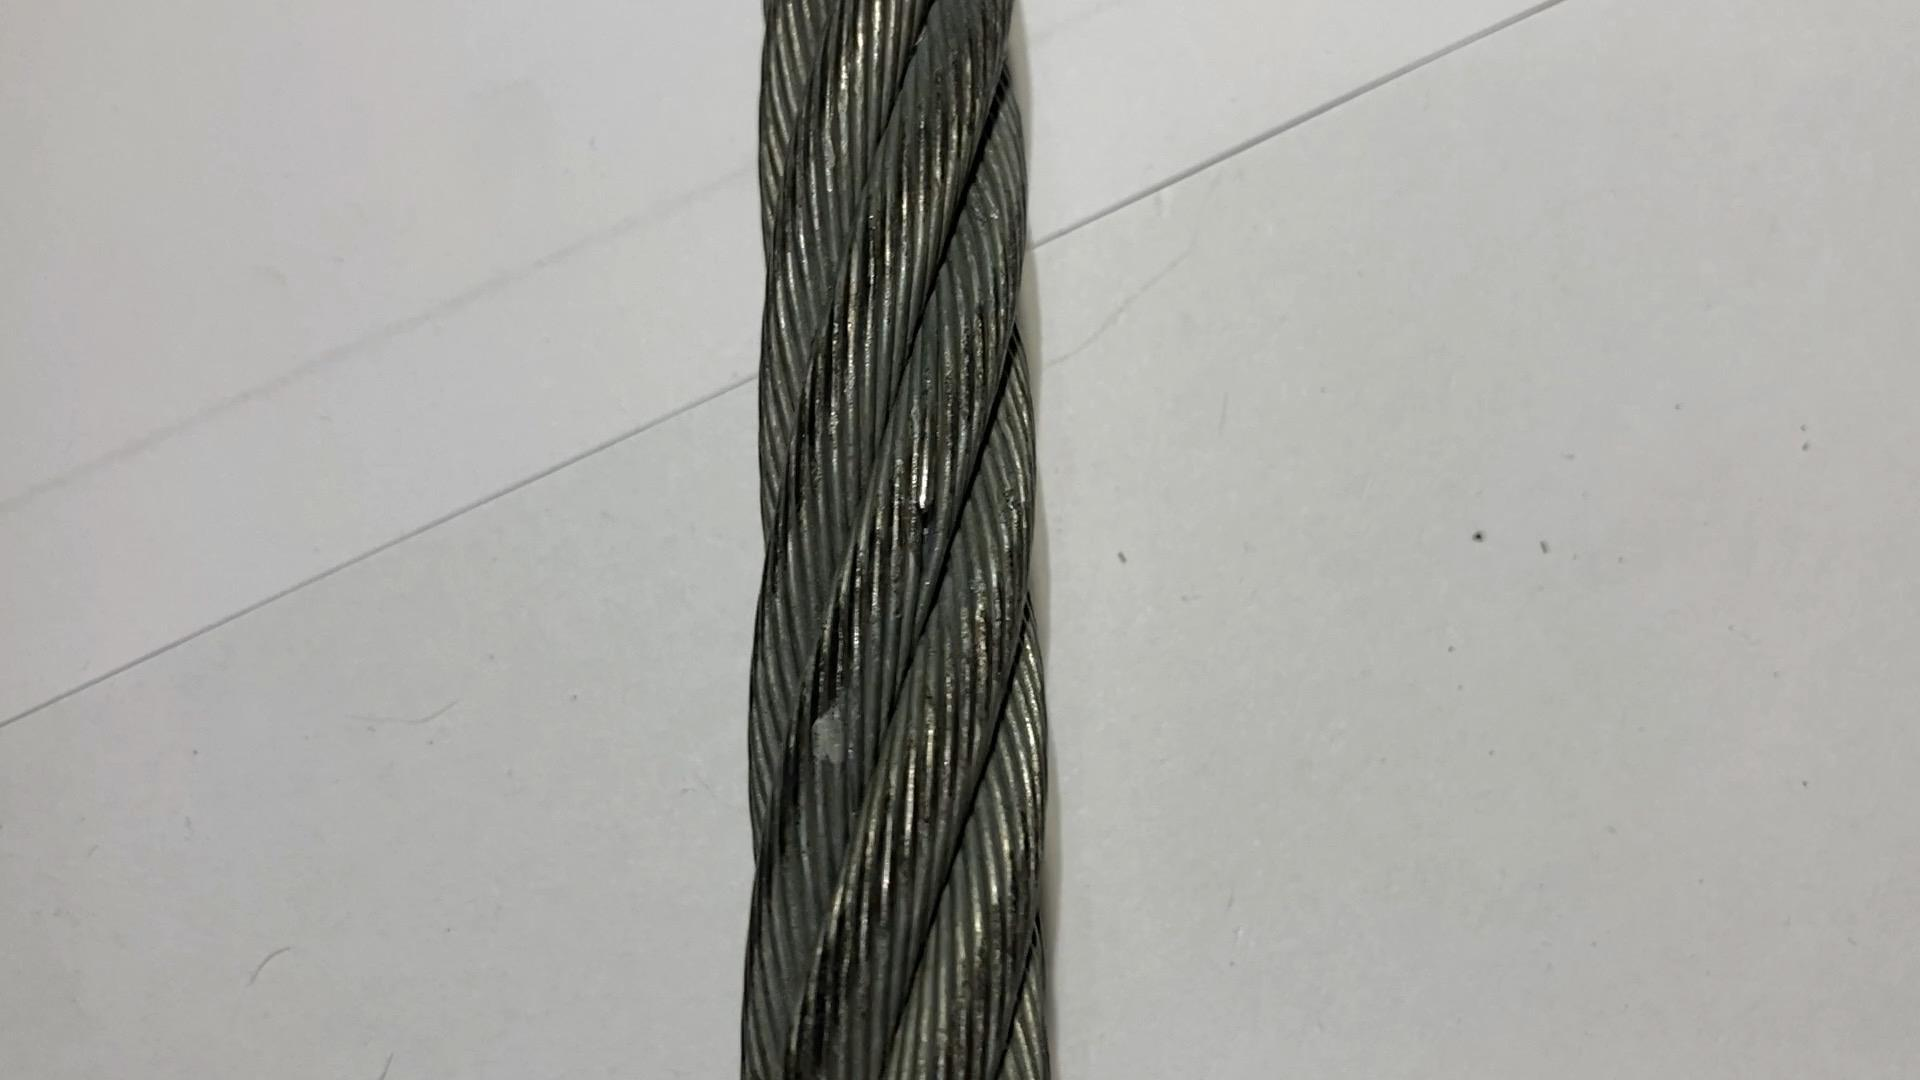break: (885, 440, 955, 513)
